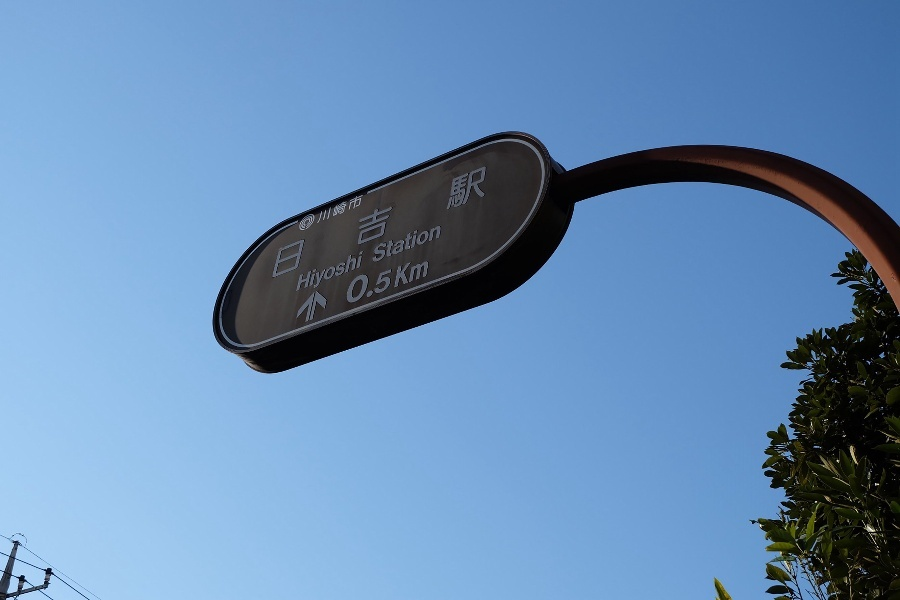text: (289, 165, 304, 279), (305, 165, 320, 279), (321, 165, 336, 279), (337, 165, 352, 279), (353, 165, 368, 279), (369, 165, 384, 279), (385, 165, 400, 279), (401, 165, 416, 279), (417, 165, 432, 279), (433, 165, 448, 279), (449, 165, 464, 279), (465, 165, 480, 279), (280, 165, 288, 279), (481, 165, 488, 279), (353, 252, 368, 305), (369, 252, 384, 305), (385, 252, 400, 305), (401, 252, 416, 305), (417, 252, 430, 305), (305, 251, 320, 295), (321, 251, 336, 295), (337, 251, 352, 295), (385, 221, 400, 264), (401, 221, 416, 264), (417, 221, 432, 264), (321, 193, 336, 225), (337, 193, 352, 225), (353, 251, 363, 295), (374, 221, 384, 264), (433, 221, 443, 264), (353, 193, 364, 225), (299, 251, 304, 295), (351, 252, 352, 305)
